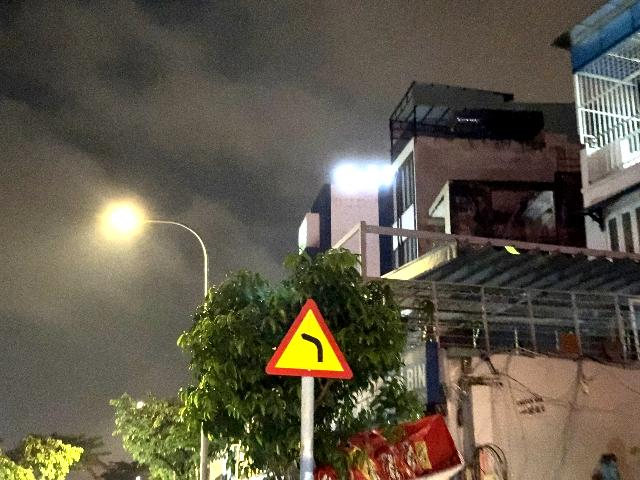cho-ngoat-nguy-hiem-ben-trai: (265, 298, 353, 380)
